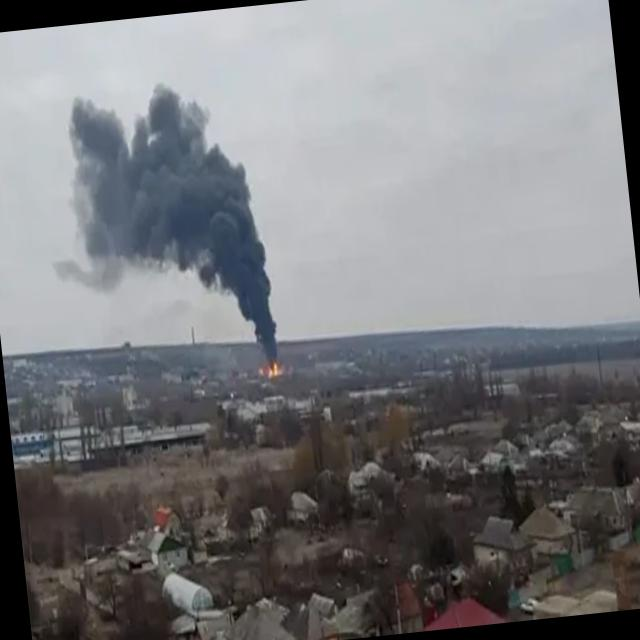Smoke: (41, 70, 304, 382)
